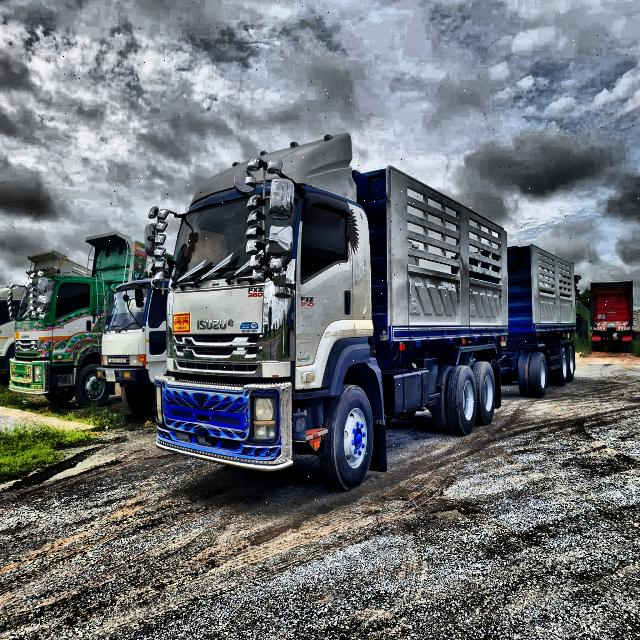trailer: (163, 138, 581, 482)
